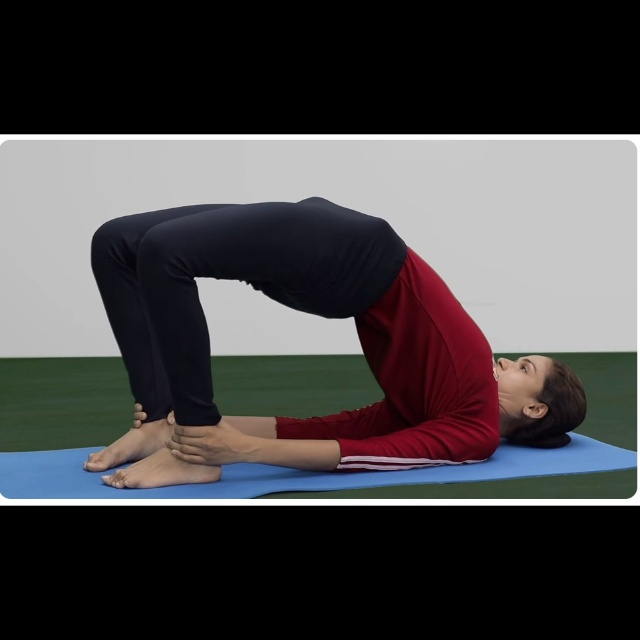Bridge_Pose: (74, 193, 593, 486)
